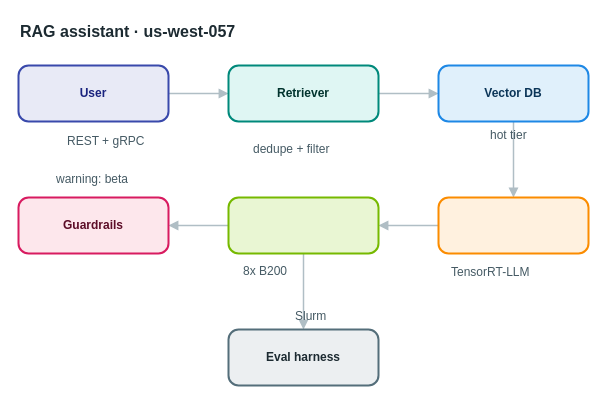
Image size: 606x403. Some labels were removed from this diagram. Each missing label, with the box of its shape:
Nemotron: (227, 196, 379, 254)
Reranker: (437, 196, 589, 254)
